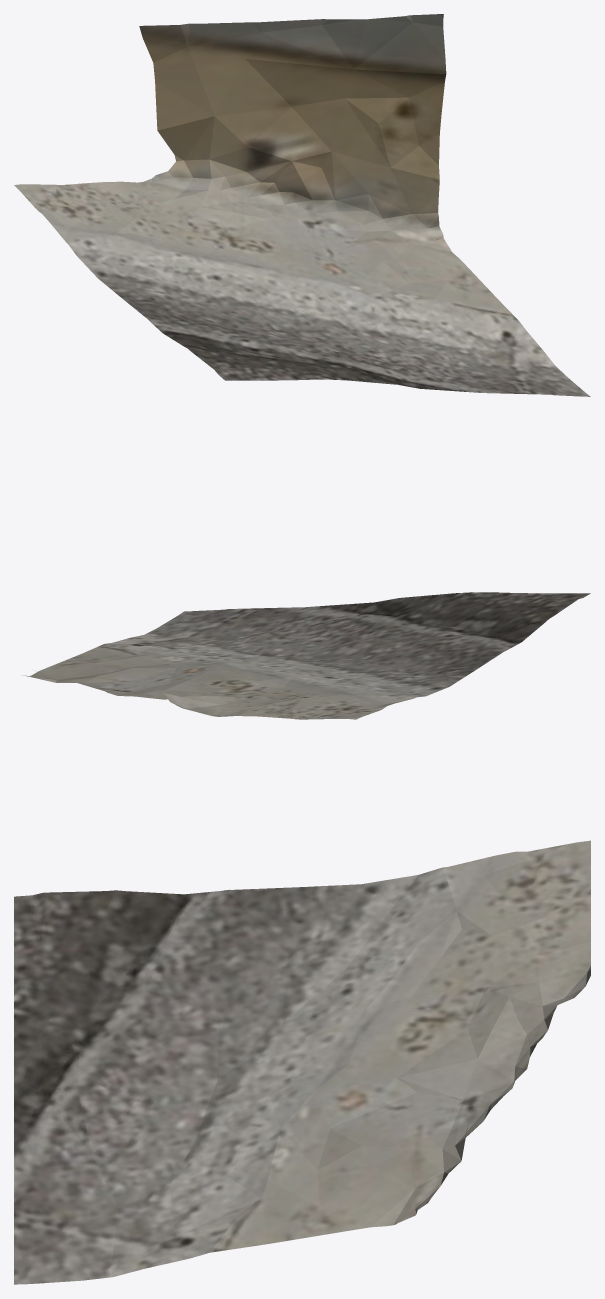
3 views of the same model, one above another, from view 1: azimuth 30°, elevation 25°; view 2: azimuth 150°, elevation 25°; view 3: azimuth 270°, elevation 25° (orthographic). The views are drawn at different scales.
Size of the model in its own units: 0.8374 by 0.6018 by 0.8374.
3 materials, 3 textured.
